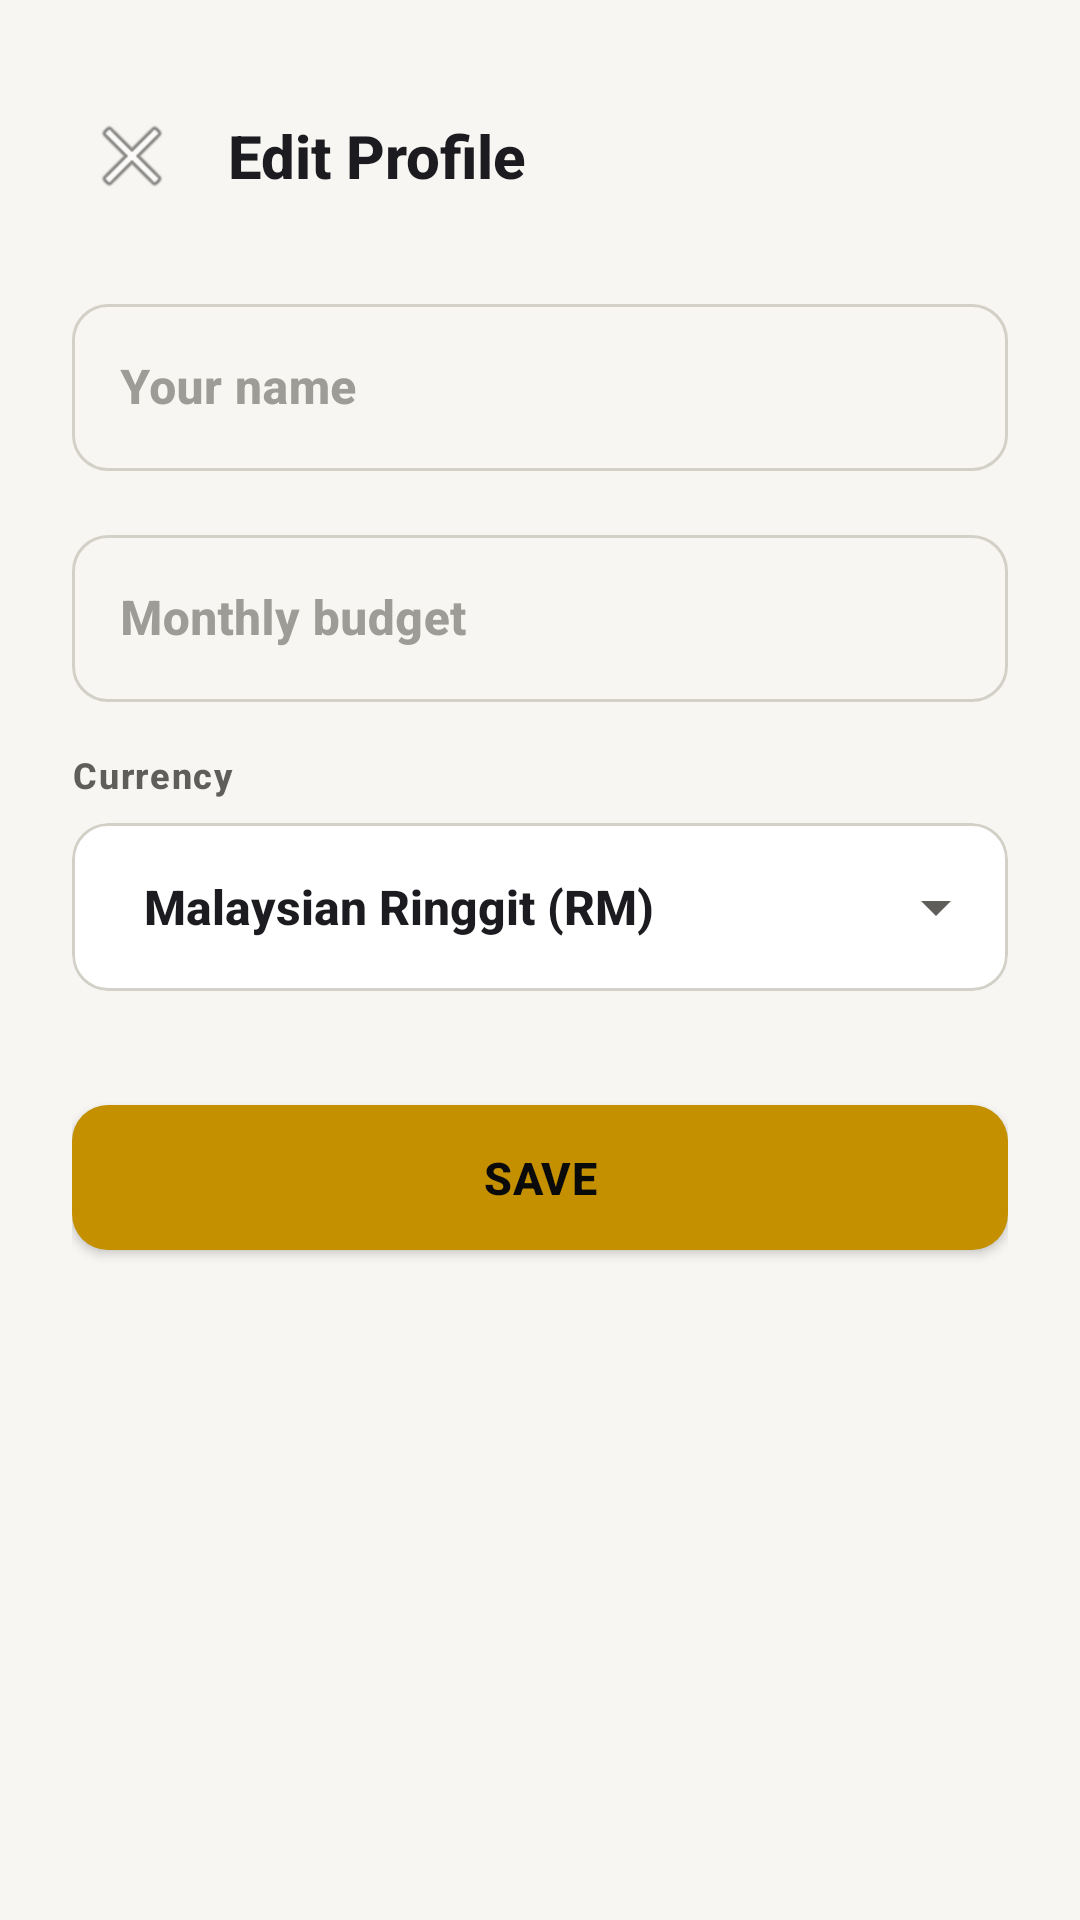

Icon click points for this 1080×1920 phone screenshot, format point (x, y):
Close: point (132, 156)
